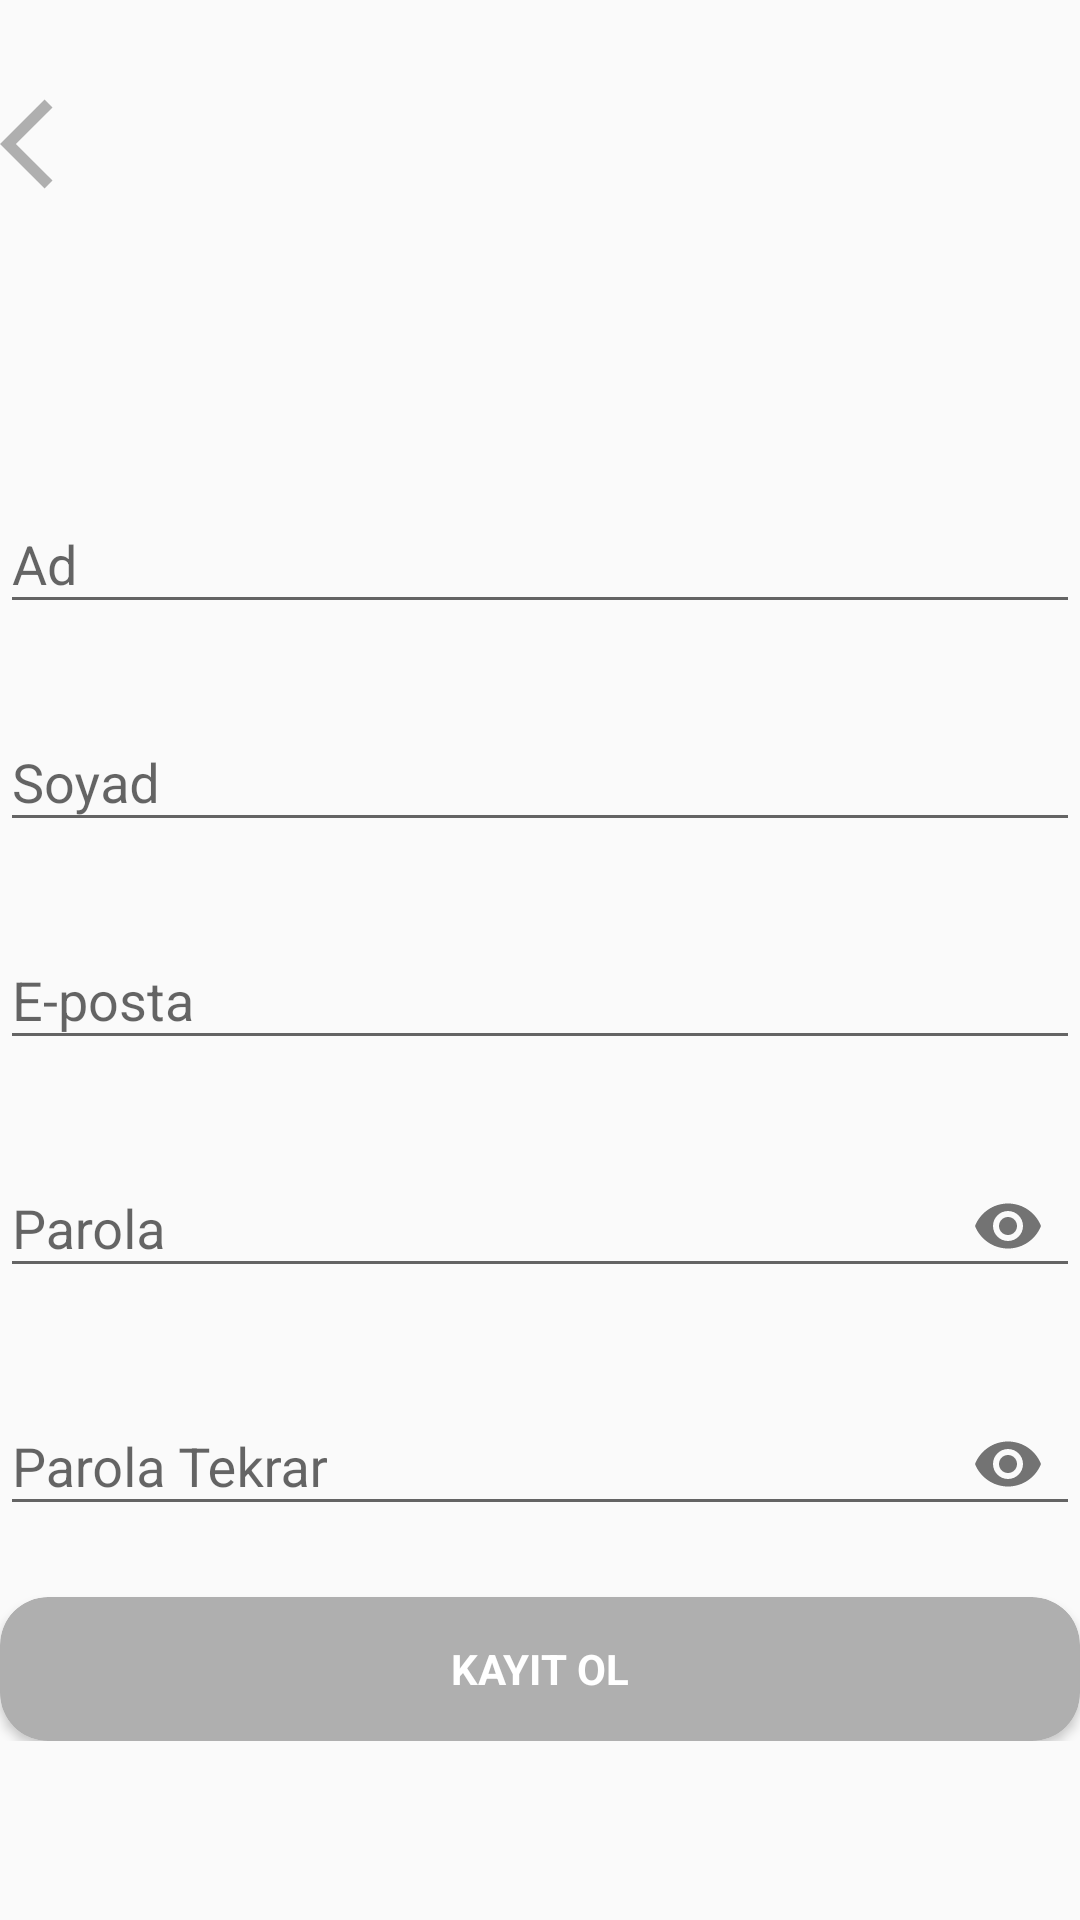

Screen size 1080px×1920px. Icon name, then its box in pixels as [left=x1, top=y1, right=x2, bottom=y2]:
arrow back: [left=0, top=100, right=52, bottom=188]
